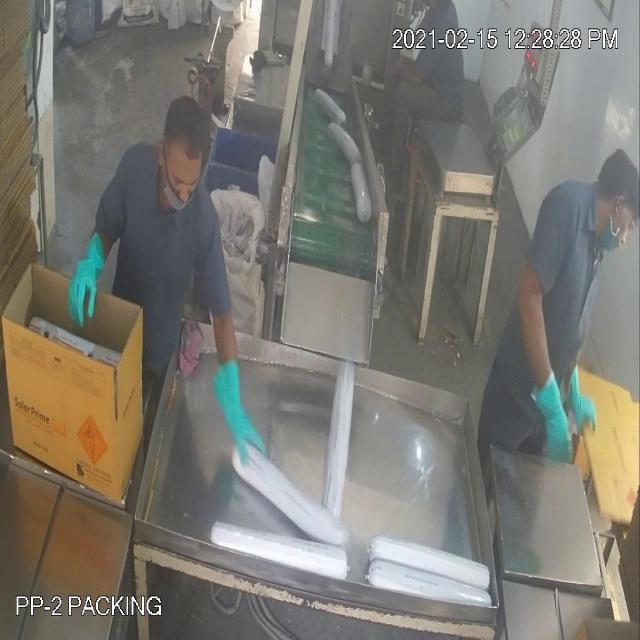Gloves: (38, 47, 555, 410)
